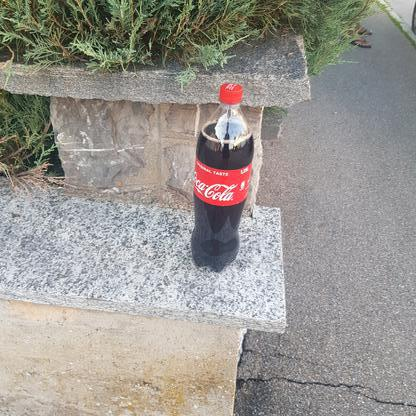coca-cola: (189, 82, 255, 278)
